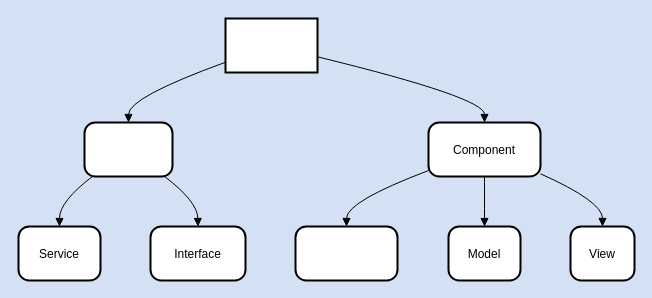
The diagram is 652 pixels wide and 298 high, and some of its shapes have lost their labels. Each missing label, with the centre of its shape:
"Controller" goes at point 346,253.
"Package" goes at point 128,149.
"User" goes at point 271,45.
